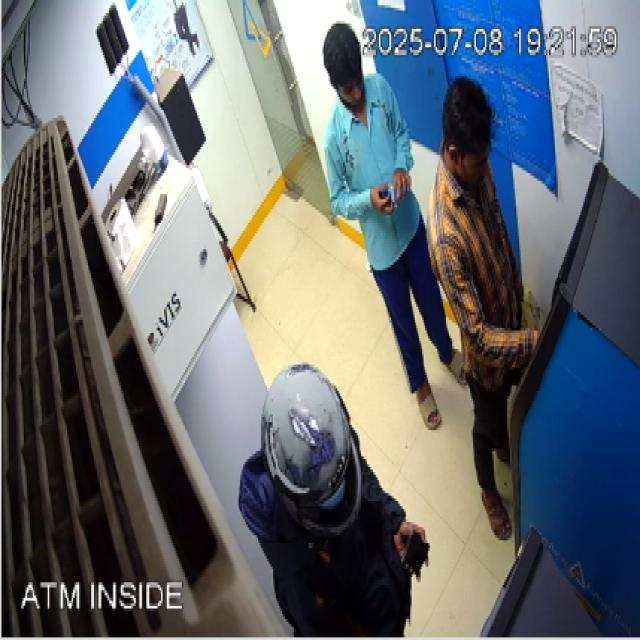helmet: (260, 361, 362, 538)
no_helmet: (441, 76, 495, 189), (323, 21, 364, 118)
